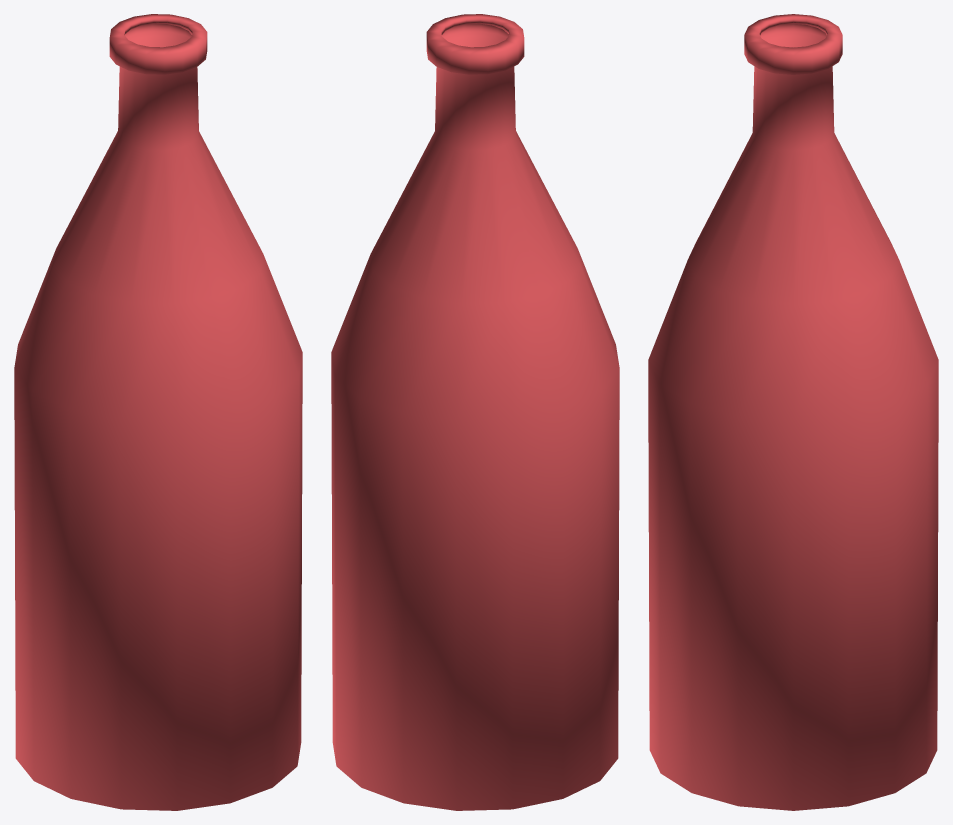
File: BottleTest.fbx
3 renders of one model, left to right at view 1: azimuth 30°, elevation 25°; view 2: azimuth 150°, elevation 25°; view 3: azimuth 270°, elevation 25°, orthographic.
Parts seen in each view (by area): view 1: Cylinder; view 2: Cylinder; view 3: Cylinder.
Boxes of the visible parts, box(x1,y1,x2,y2) form: Cylinder: box(14, 14, 302, 810); Cylinder: box(331, 14, 619, 810); Cylinder: box(648, 14, 938, 810).
Size of the model in its own units: 32.11 by 32.11 by 87.43.
